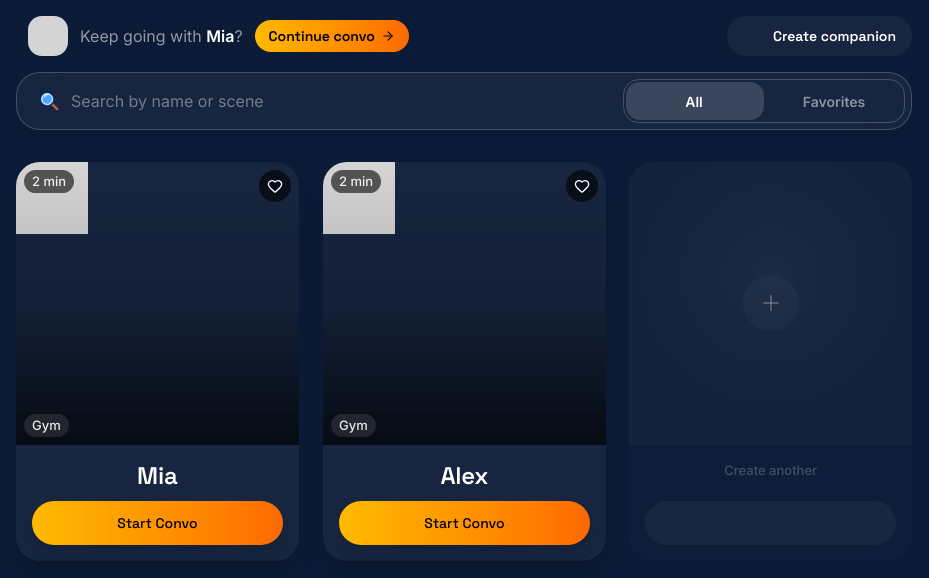
Test: DashboardCompanionList › defaults to All and keeps only starred companions on Favorites
Expected: the element "Mia" is shown, [16, 162, 299, 561]
Click the 1st button named "Add to favorites".
click(275, 186)  # box [259, 170, 291, 202]
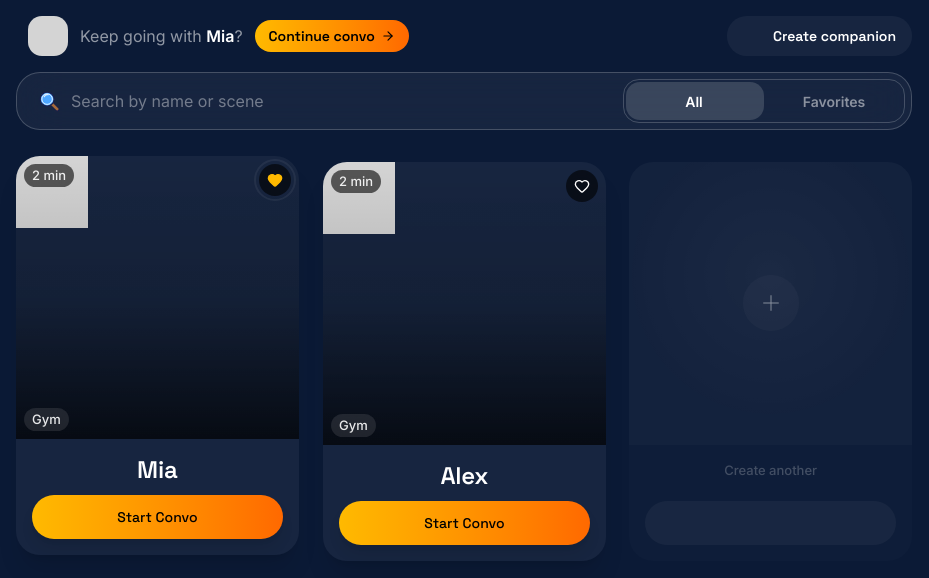
Click the radio button labelled "Favorites".
click(834, 102)  # box [764, 80, 904, 124]
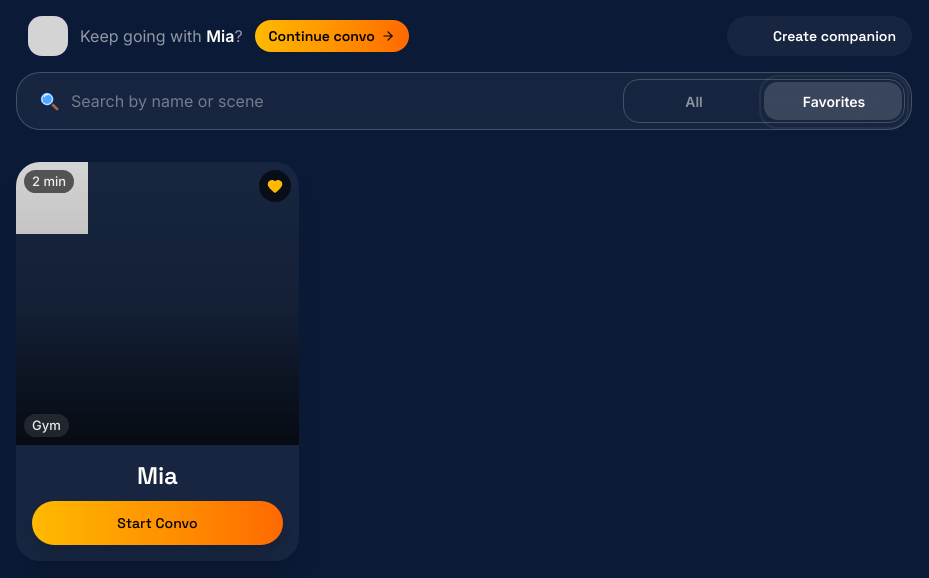
Expected: the heading "Mia" is shown, [137, 460, 178, 491]
Result: the heading "Alex" is gone
